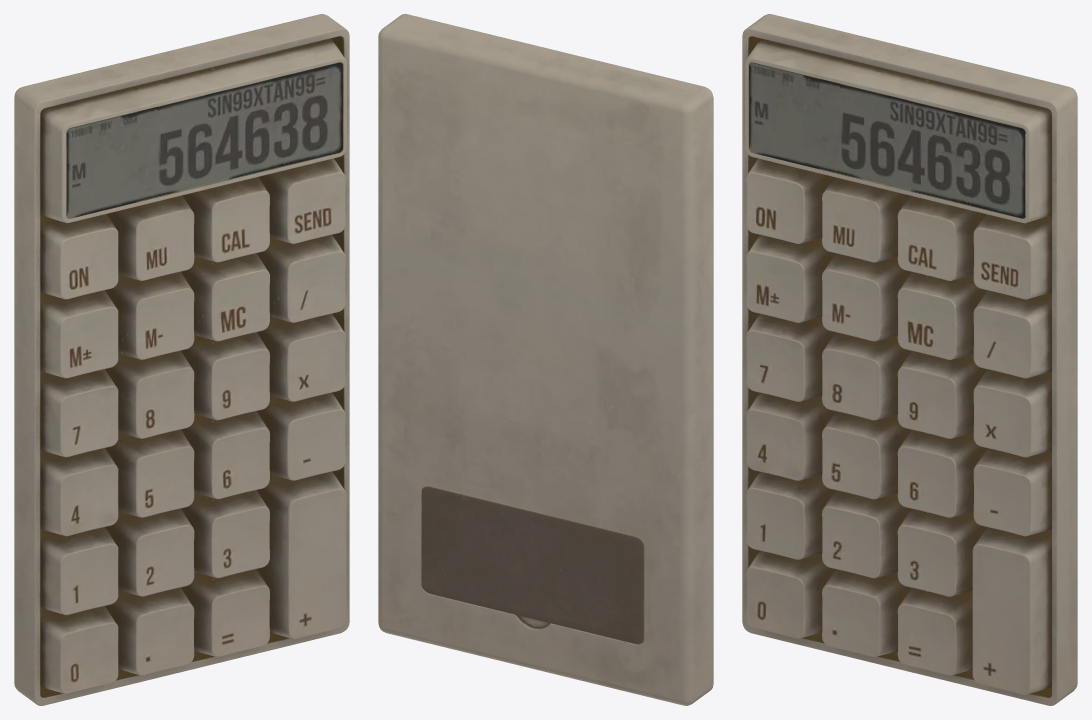
Rendered from Calcu-transformed.glb.
3 views of the same model, side by side, from view 1: azimuth 30°, elevation 25°; view 2: azimuth 150°, elevation 25°; view 3: azimuth 330°, elevation 25° (orthographic).
Parts seen in each view (by area): view 1: calc.001_low, calc.003_low, calc.002_low, calc.004_low; view 2: calc.003_low, calc_low; view 3: calc.001_low, calc.003_low, calc.002_low, calc.004_low.
Boxes of the visible parts, x1,y1,x2,y2 form: calc.001_low: [40, 158, 346, 693]; calc.003_low: [14, 14, 349, 705]; calc.002_low: [66, 62, 342, 218]; calc.004_low: [40, 38, 346, 223]; calc.003_low: [378, 14, 713, 705]; calc_low: [421, 486, 644, 644]; calc.001_low: [746, 158, 1051, 694]; calc.003_low: [742, 14, 1077, 705]; calc.002_low: [749, 62, 1025, 218]; calc.004_low: [745, 38, 1051, 223].
Size of the model in its own units: 0.1041 by 0.1907 by 0.0208.
Materials: 1 (1 with a texture image).
